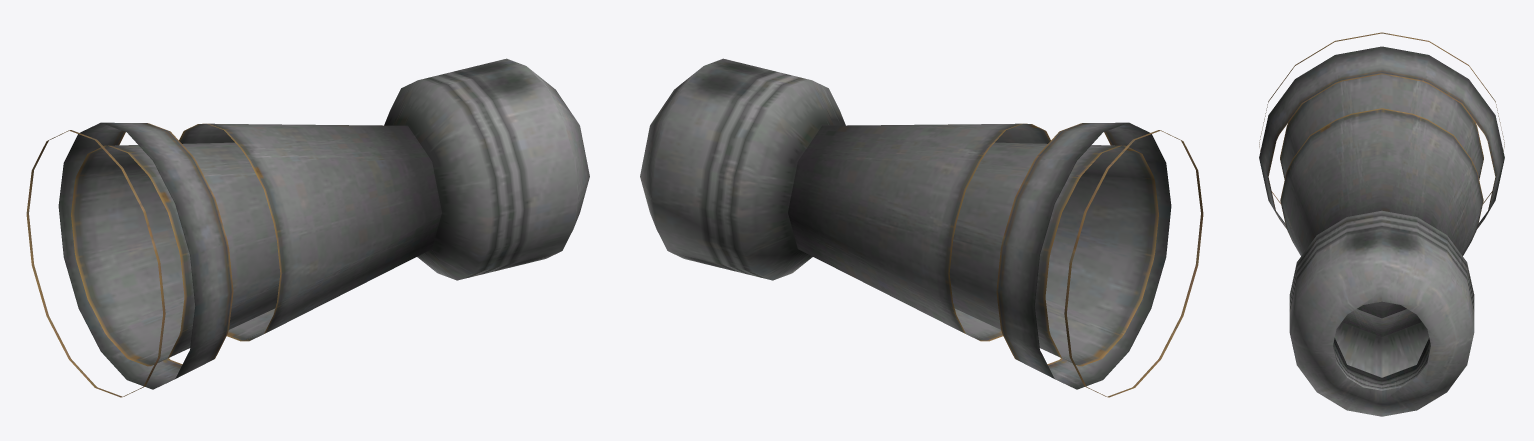
File: ship_component_booster_s01_l1.fbx
The picture shows the model from 3 angles, left to right: view 1: azimuth 30°, elevation 25°; view 2: azimuth 150°, elevation 25°; view 3: azimuth 270°, elevation 25°; orthographic projection. The views are drawn at different scales.
Parts seen in each view (by area): view 1: mesh_node; view 2: mesh_node; view 3: mesh_node.
Part boxes in pixels (left/top/right/bottom): mesh_node: left=26, top=58, right=589, bottom=397; mesh_node: left=640, top=58, right=1203, bottom=397; mesh_node: left=1259, top=32, right=1504, bottom=416.
Size of the model in its own units: 1.28 by 0.6526 by 0.6736.
Materials: 1 (1 with a texture image).
